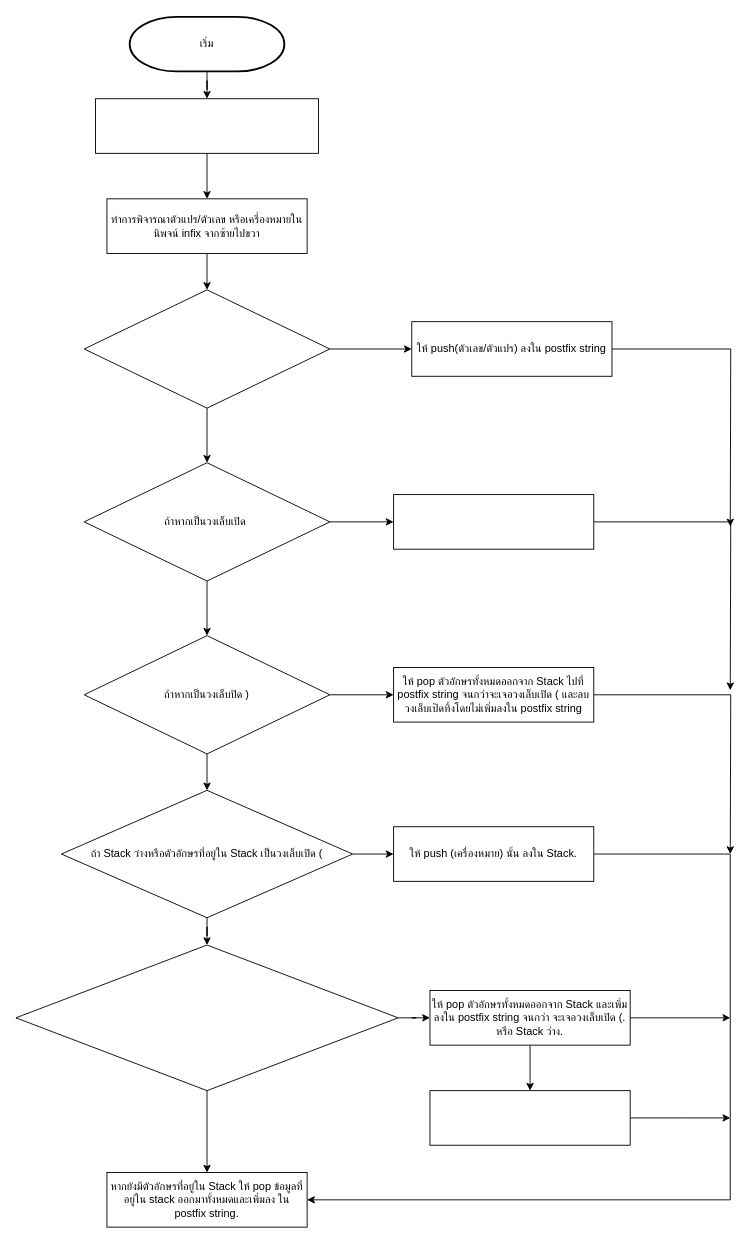
Image size: 754x1243. Some labels were removed from this diagram. Each missing label, with the centre of its shape:
push เครื่องหมายปัจจุบันลงใน Stack.: point 529,1117
ถ้าตัวอักษรที่อยู่ใน Stack มีความสำคัญน้อยกว่าหรือเท่ากับเครื่องหมายปัจจุบัน: point 206,1017
พบตัวเลข หรือตัวแปร: point 206,348
สร้าง Stack สำหรับเก็บตัวอักษรหรือตัวเลข: point 206,125
ให้ push ลงใน Stack: point 493,521
